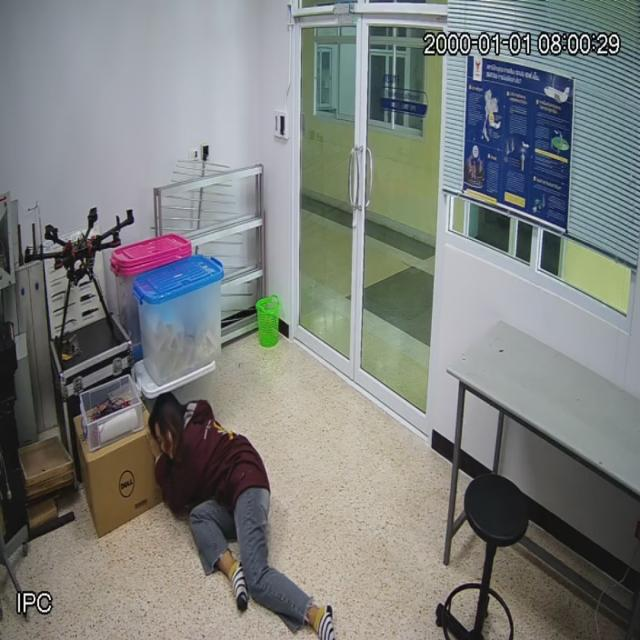fall: (146, 389, 340, 640)
